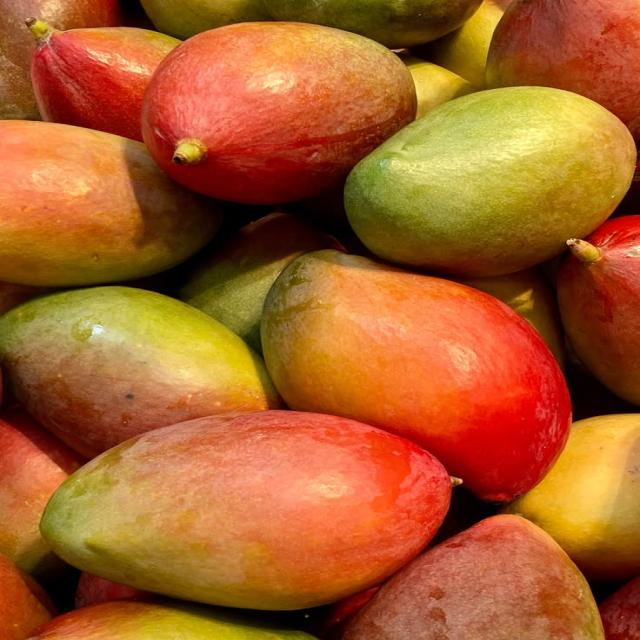mango: (42, 410, 451, 610), (261, 250, 570, 502), (343, 86, 636, 275), (141, 22, 416, 204), (0, 286, 281, 457), (0, 120, 221, 286), (343, 515, 603, 639), (24, 18, 180, 141)
